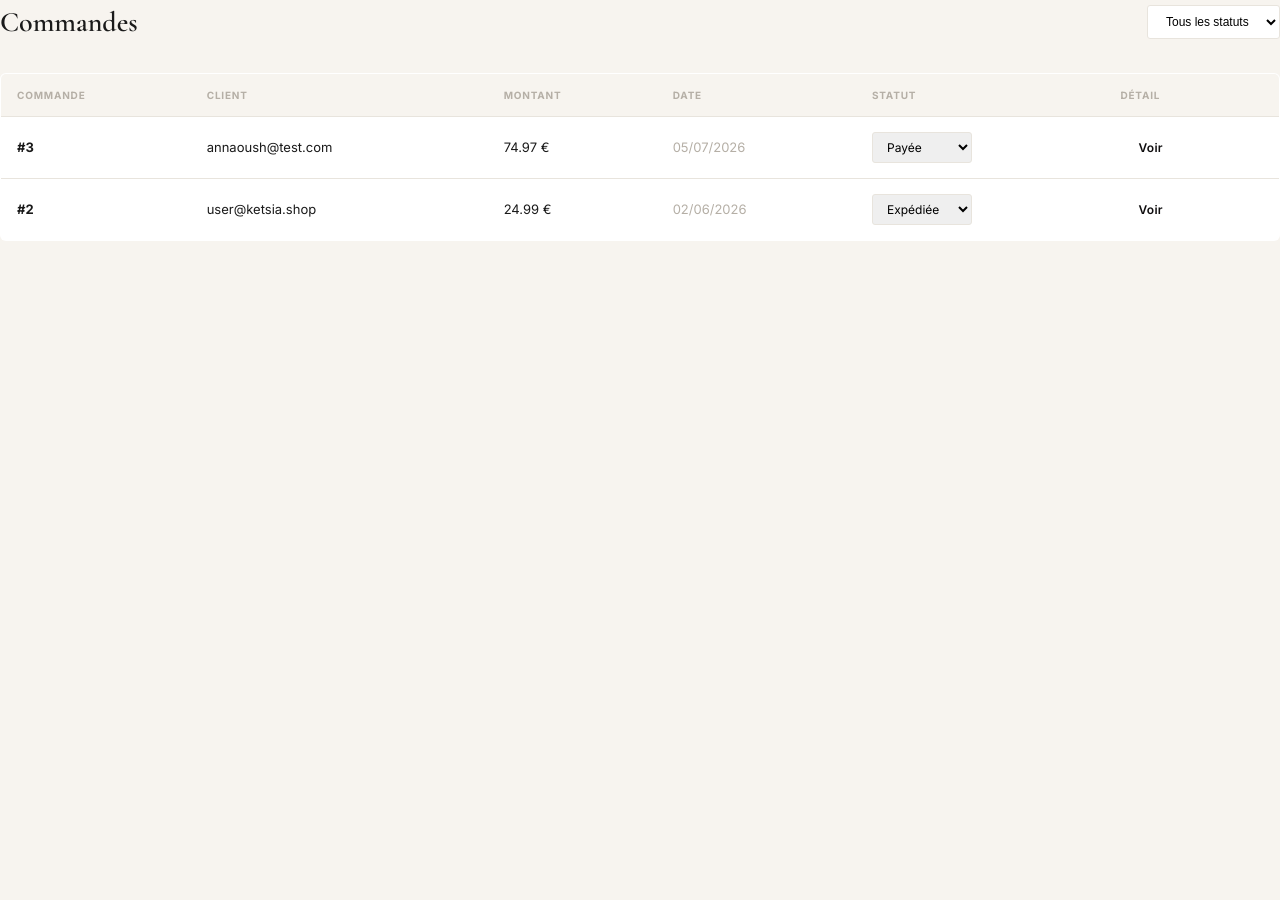
AdminOrdersPage › ferme la modale au clic sur la croix
Expected: the text "#3" is shown, [17,139,34,155]
Click the button "Voir" in the row of "annaoush@test.com": click(1151, 147) [1120,131,1181,164]
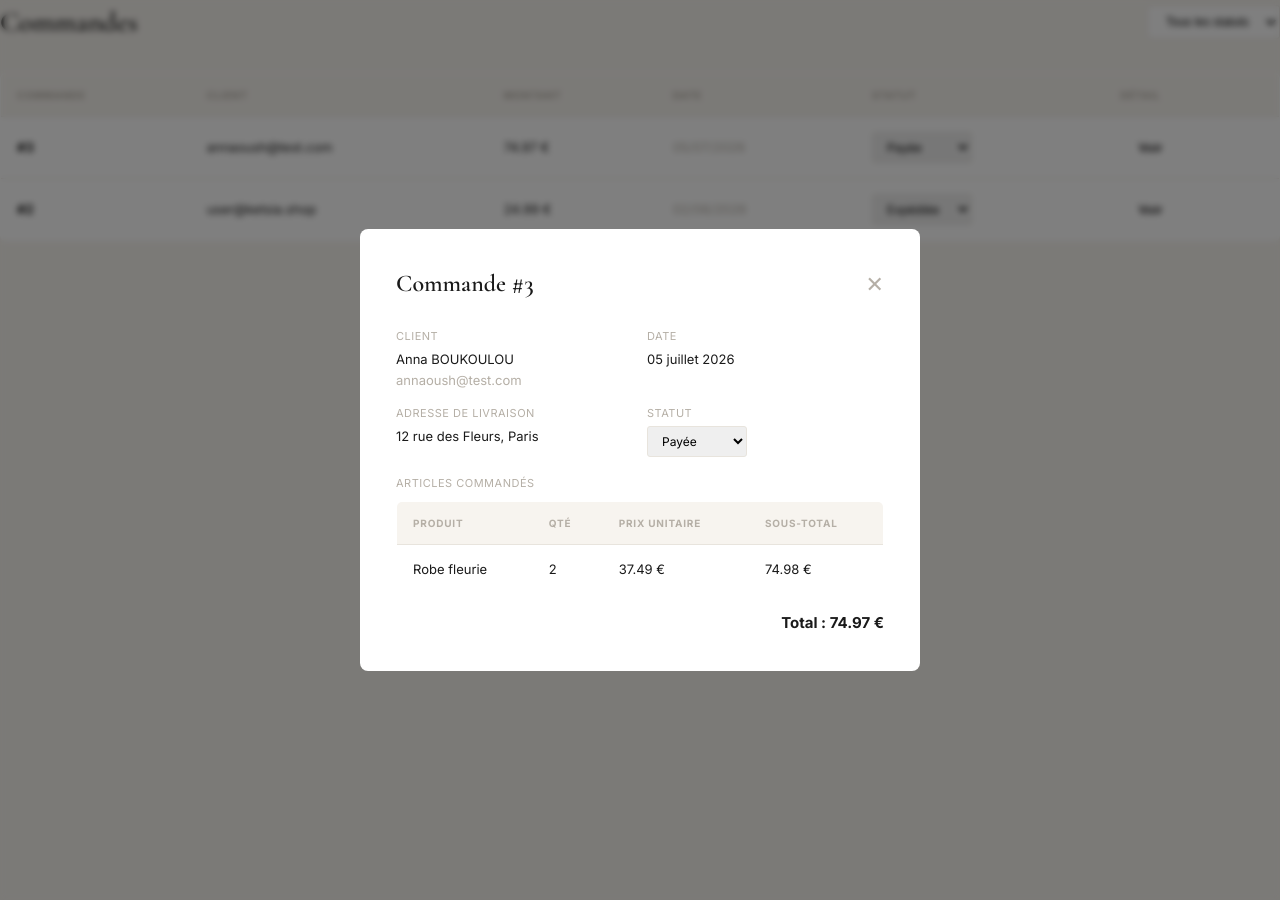
Now the text "Commande #3" is shown, box [396,265,534,304]
Click the button "✕": click(875, 284) [866,273,884,295]
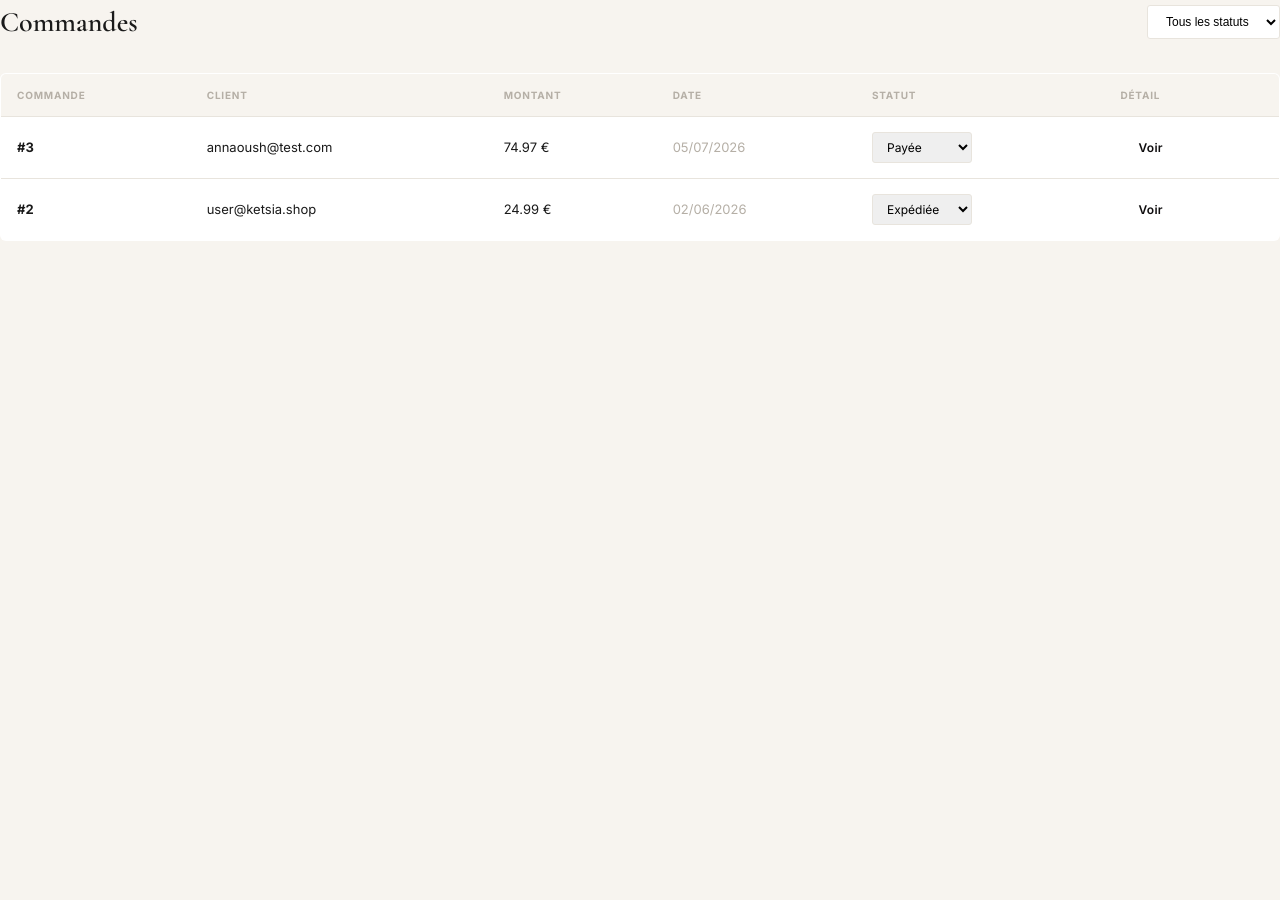
Now the text "Commande #3" is gone
